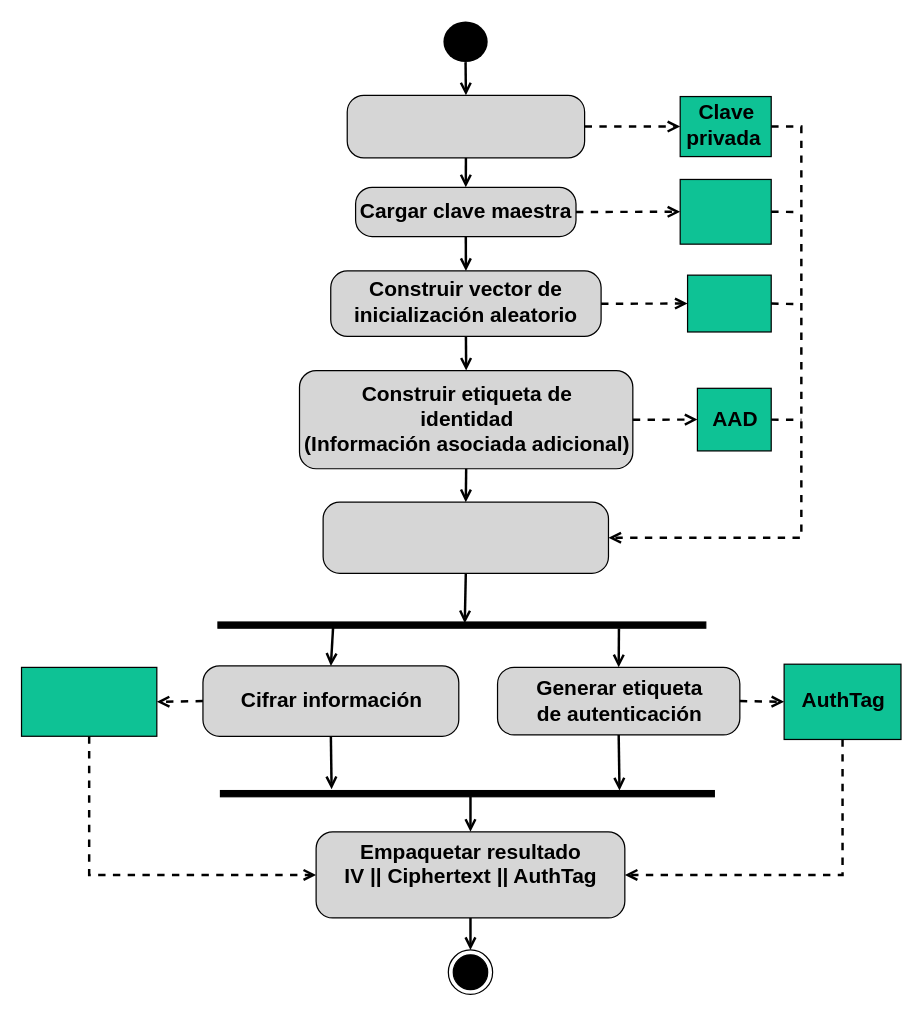
Image size: 923x1016. Some labels were removed from this diagram. The box of each missing label's shape, as (x1, y1, x2, y2) in pixels:
Ciphertext: (20, 666, 157, 736)
Clave maestra: (679, 178, 771, 244)
Ejecutar cifrado de clave Algoritmo AES-256-GCM: (322, 501, 608, 573)
Iniciar procedimiento de cifrado de clave: (346, 94, 585, 158)
IV: (686, 274, 771, 332)
